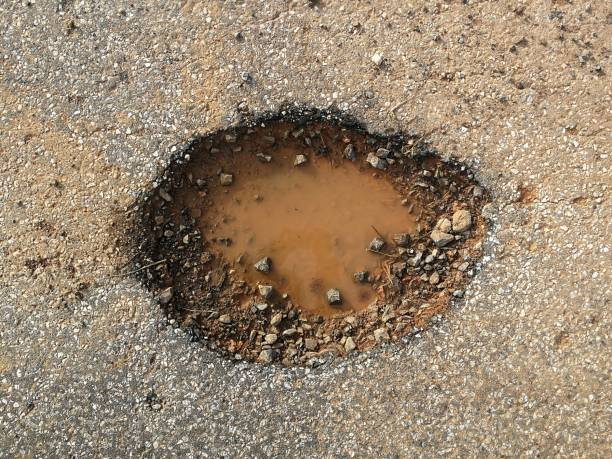potholes: (118, 96, 495, 374)
